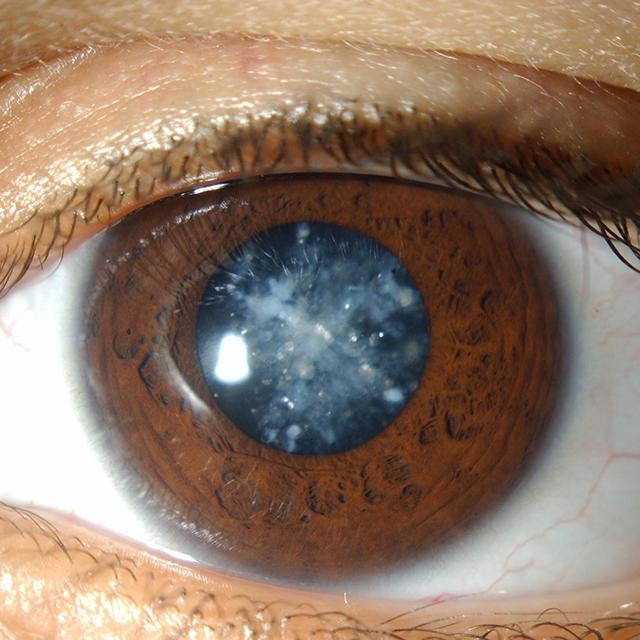eye: (68, 162, 580, 586)
